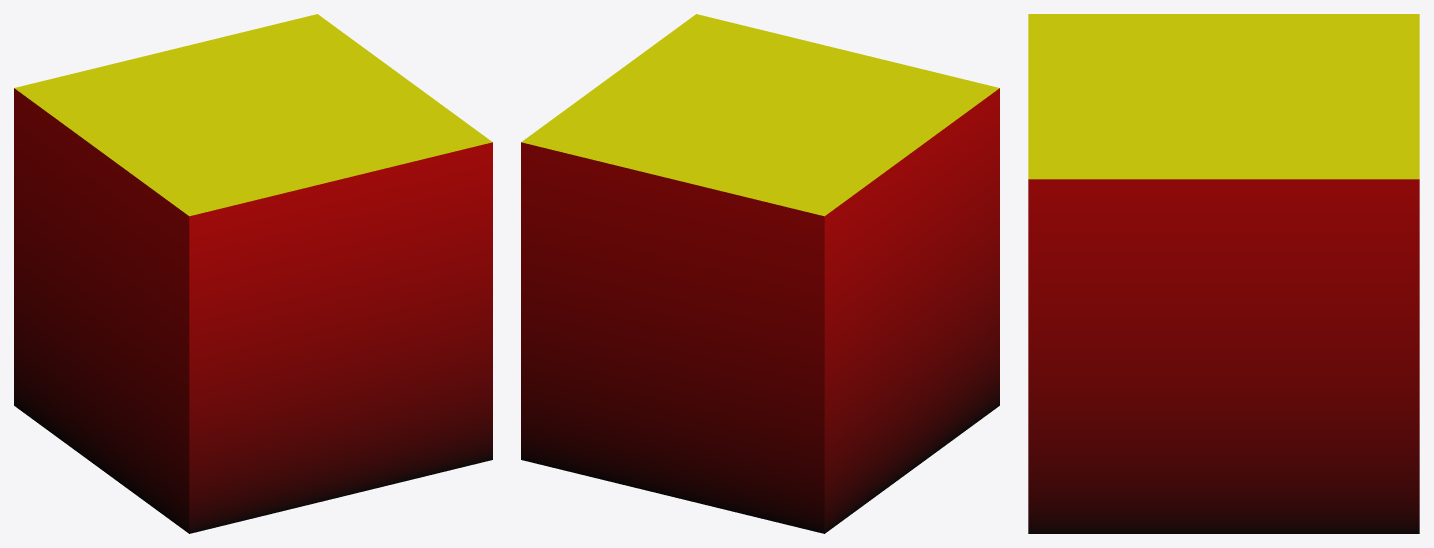
File: AquaCube.fbx
3 views of the same model, side by side, from view 1: azimuth 30°, elevation 25°; view 2: azimuth 150°, elevation 25°; view 3: azimuth 270°, elevation 25° (orthographic). The views are drawn at different scales.
Visible parts, largest first — view 1: Box001; view 2: Box001; view 3: Box001.
Part boxes in pixels (left/top/right/bottom): Box001: left=14, top=14, right=492, bottom=533; Box001: left=521, top=14, right=999, bottom=533; Box001: left=1028, top=14, right=1419, bottom=533.
Bounding box in the file's own units: 100 × 100 × 100.
